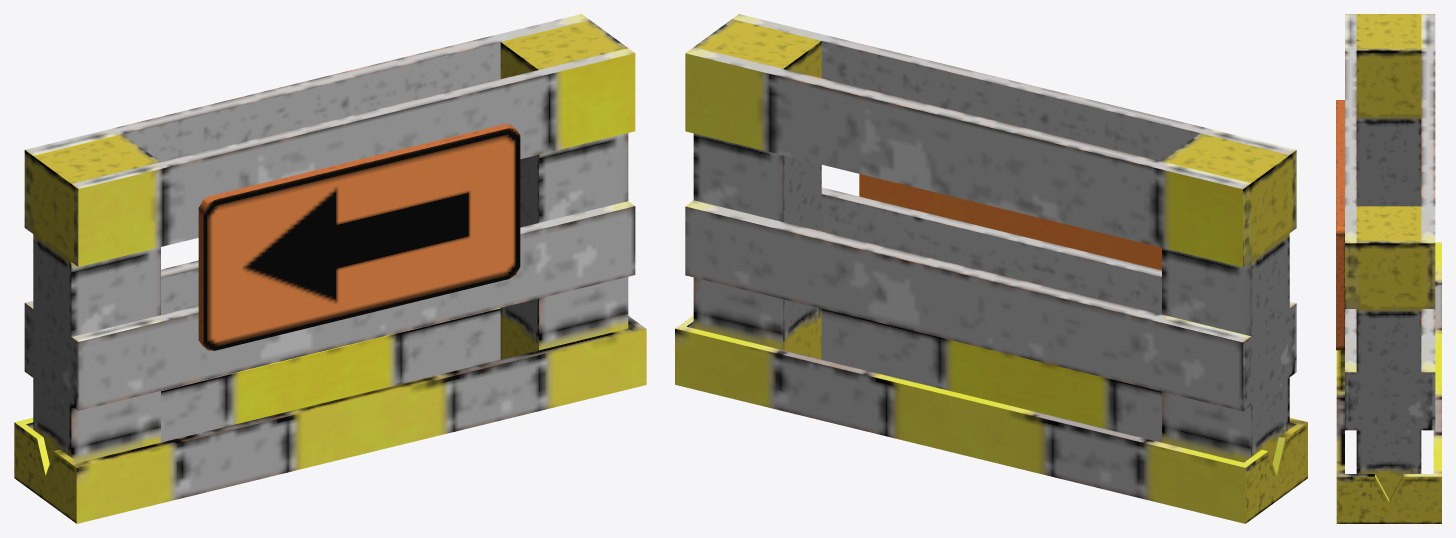
File: RedirectionSign.fbx
3 views of the same model, side by side, from view 1: azimuth 30°, elevation 25°; view 2: azimuth 150°, elevation 25°; view 3: azimuth 270°, elevation 25° (orthographic). The views are drawn at different scales.
Parts seen in each view (by area): view 1: pCube5; view 2: pCube5; view 3: pCube5.
Boxes of the visible parts, bbox=[...] form: pCube5: bbox=[14, 14, 646, 523]; pCube5: bbox=[675, 14, 1307, 523]; pCube5: bbox=[1336, 14, 1441, 523].
Bounding box in the file's own units: 368 × 204 × 70.27.
